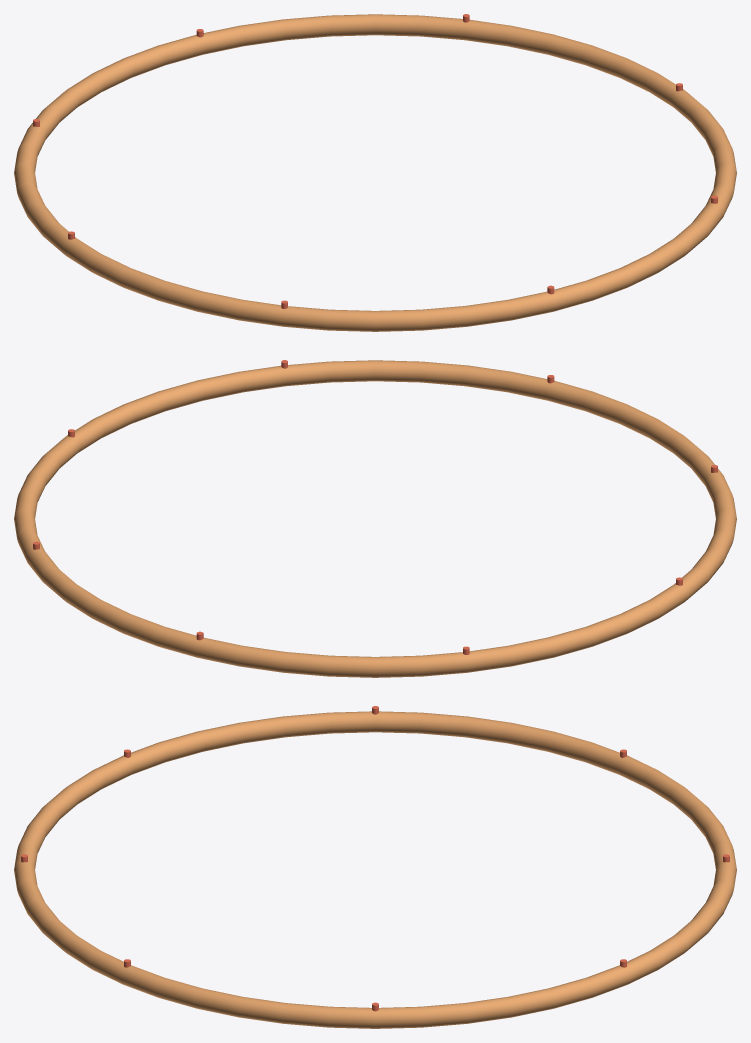
Rendered from BalloonSpawner.fbx.
3 renders of one model, top to bottom at view 1: azimuth 30°, elevation 25°; view 2: azimuth 150°, elevation 25°; view 3: azimuth 270°, elevation 25°, orthographic.
Parts seen in each view (by area): view 1: Torus.002; view 2: Torus.002; view 3: Torus.002.
Part boxes in pixels (box(x1,y1,x2,y2)): Torus.002: box(14, 14, 736, 331); Torus.002: box(14, 360, 736, 677); Torus.002: box(14, 711, 736, 1028).
Size of the model in its own units: 206 by 7.5 by 206.
